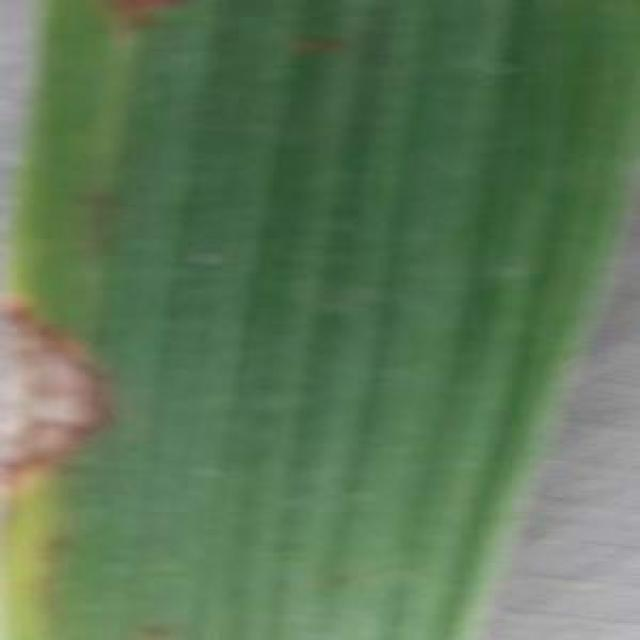Leaf_Blast: (0, 264, 137, 527)
